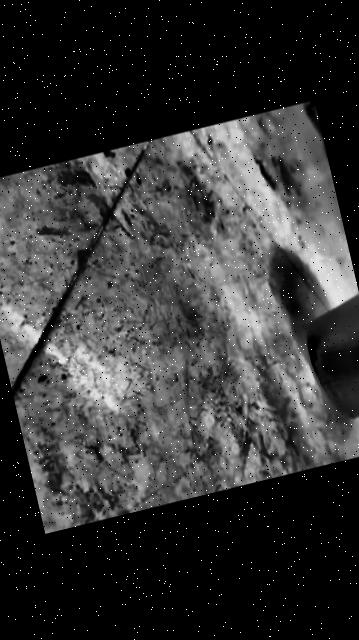pot: (293, 277, 359, 434)
